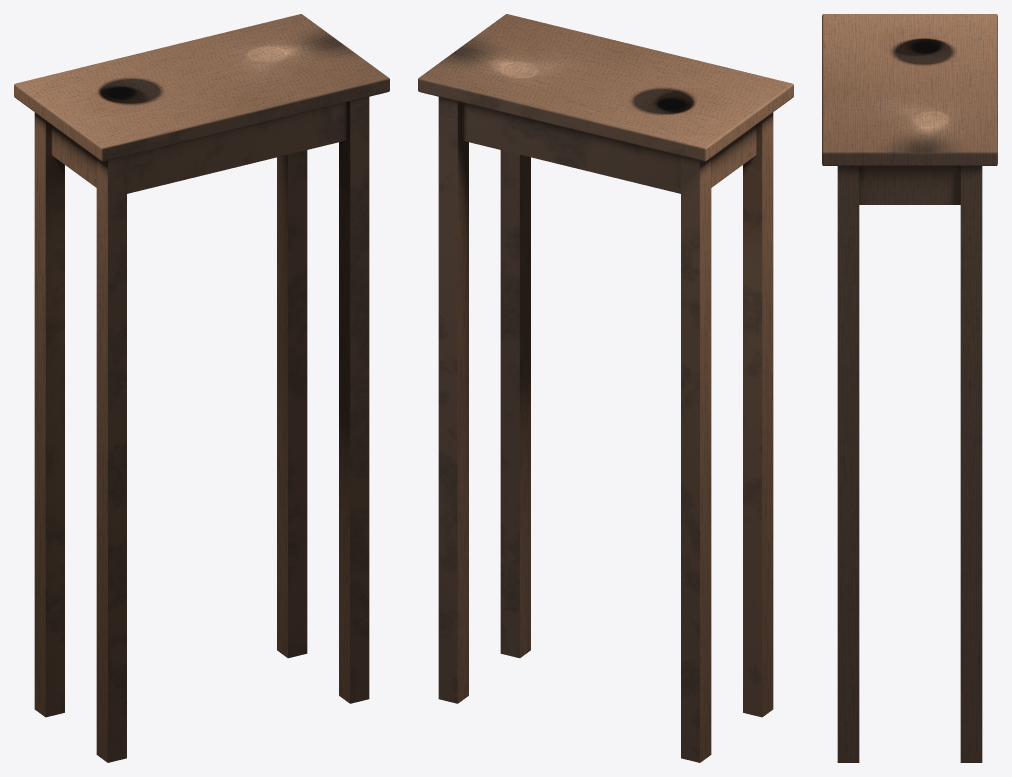
File: 404_hook.glb
The picture shows the model from 3 angles, left to right: view 1: azimuth 30°, elevation 25°; view 2: azimuth 150°, elevation 25°; view 3: azimuth 270°, elevation 25°; orthographic projection.
Parts seen in each view (by area): view 1: Table; view 2: Table; view 3: Table.
Part boxes in pixels (left/top/right/bottom): Table: left=14, top=14, right=389, bottom=762; Table: left=418, top=14, right=793, bottom=762; Table: left=822, top=14, right=997, bottom=762.
Size of what is drawn, in the model's own units: 1.5 by 3.1 by 0.8.
1 material, 1 textured.
